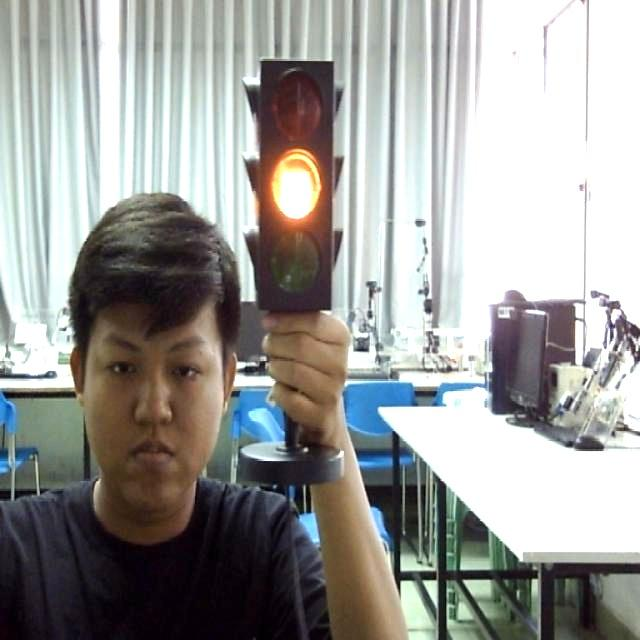Yellow: (244, 59, 350, 318)
